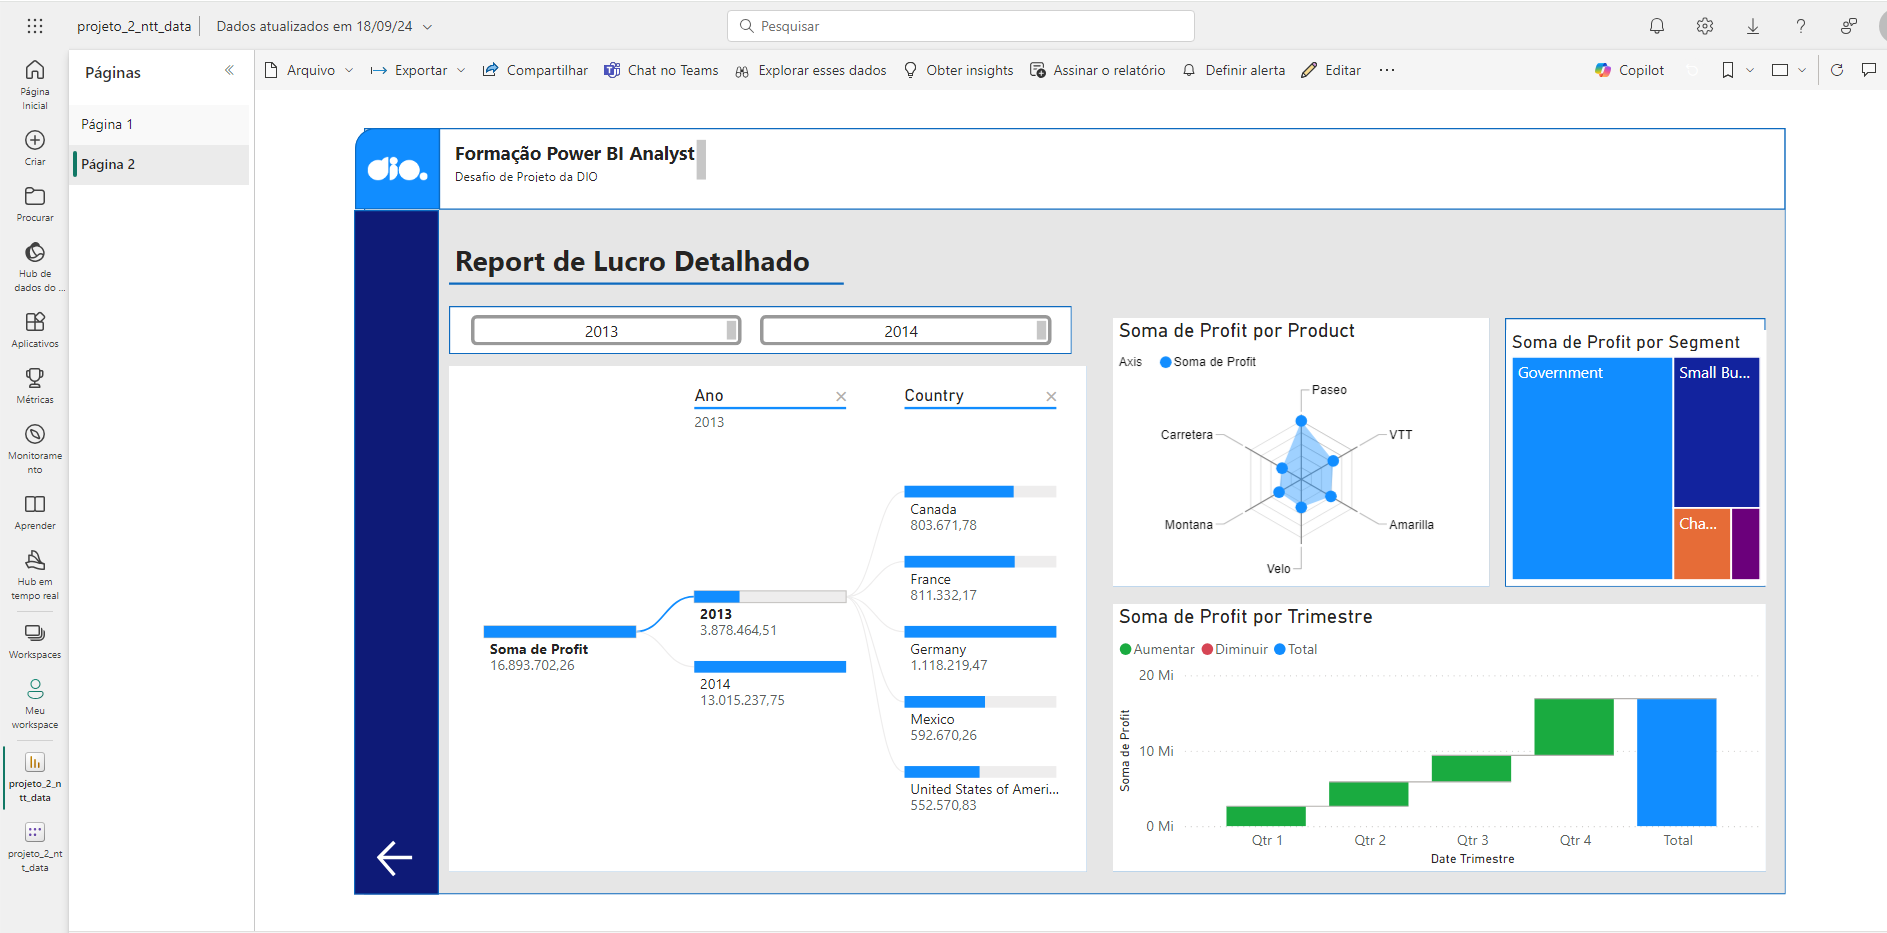

What the dashboard file says about the page in this screenshot:
{"tool":"powerbi","page":{"name":"Página 2","canvas":[1280,720],"ordinal":1},"visuals":[{"type":"shape","box":[34.3,32.3,1217.4,656.2],"z":0},{"type":"shape","box":[26,102.3,72.7,586.2],"z":1000},{"type":"shape","box":[26.2,32.3,72.7,69.7],"z":2000},{"type":"image","box":[32.3,28.3,60.6,77.7],"z":3000},{"type":"shape","box":[98.8,32.3,1152.7,70],"z":4000},{"type":"textbox","box":[107,37.4,225.1,46.4],"z":5000},{"type":"shape","box":[107,154.4,338.2,23.2],"z":6000},{"type":"textbox","box":[107,124.2,318,42.4],"z":7000},{"type":"actionButton","box":[41.4,638,41.4,40.4],"z":8000},{"type":"shape","box":[107,236.2,546.1,433.1],"z":9000},{"type":"shape","box":[675.3,194.8,322,230.2],"z":10000},{"type":"shape","box":[1011.5,194.8,223.1,230.2],"z":11000},{"type":"shape","box":[675.3,440.1,559.2,229.1],"z":12000},{"type":"shape","box":[106.8,184.9,533.3,41.3],"z":13000},{"type":"treemap","fields":{"Values":["Sum(financials.Profit)"],"Group":["financials.Segment"]},"box":[1011.8,205.6,222.6,219.1],"z":14000},{"type":"waterfallChart","fields":{"Y":["Sum(financials.Profit)"],"Category":["financials.Date.Variation.Hierarquia de datas.Trimestre"]},"box":[675.3,440.1,559.2,229.1],"z":15000},{"type":"decompositionTreeVisual","fields":{"Analyze":["Sum(financials.Profit)"],"ExplainBy":["financials.Date.Variation.Hierarquia de datas.Ano","financials.Country"]},"box":[107,236.2,546.1,433.1],"z":16000},{"type":"RadarChart1446119667547","fields":{"Y":["Sum(financials.Profit)"],"Category":["financials.Product"]},"box":[675.1,194.8,322.3,229.8],"z":17000},{"type":"textbox","box":[125.7,193,231.6,26],"z":18000},{"type":"textbox","box":[373.5,193,249.6,26],"z":18001},{"type":"actionButton","box":[125.7,193,231.6,26],"z":18002},{"type":"actionButton","box":[373.5,193,249.6,26],"z":18003}]}

Visuals, with their boxes on the page's 1280x720 design canvas (x1, y1, x2, y2). These are canvas units, not pixel positions in the 1887x933 screenshot, which may show the page scaled, cropped or inside an application window:
shape: 34,32,1252,688
shape: 26,102,99,688
shape: 26,32,99,102
image: 32,28,93,106
shape: 99,32,1252,102
textbox: 107,37,332,84
shape: 107,154,445,178
textbox: 107,124,425,167
actionButton: 41,638,83,678
shape: 107,236,653,669
shape: 675,195,997,425
shape: 1012,195,1235,425
shape: 675,440,1234,669
shape: 107,185,640,226
treemap - Sum(financials.Profit) x financials.Segment: 1012,206,1234,425
waterfallChart - Sum(financials.Profit) x financials.Date.Variation.Hierarquia de datas.Trimestre: 675,440,1234,669
decompositionTreeVisual - Sum(financials.Profit) x financials.Date.Variation.Hierarquia de datas.Ano: 107,236,653,669
RadarChart1446119667547 - Sum(financials.Profit) x financials.Product: 675,195,997,425
textbox: 126,193,357,219
textbox: 374,193,623,219
actionButton: 126,193,357,219
actionButton: 374,193,623,219
